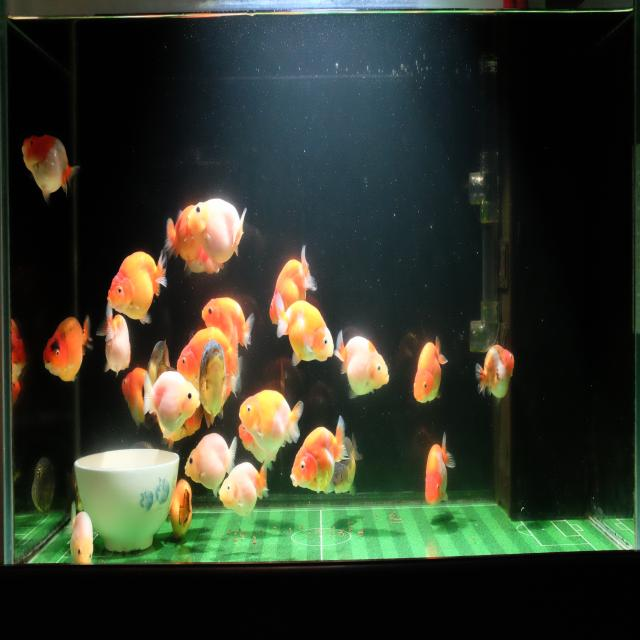Tilapia: (288, 413, 350, 497), (186, 193, 248, 274), (237, 387, 305, 460), (106, 248, 168, 328), (332, 324, 392, 404), (274, 291, 334, 368), (21, 132, 81, 209), (140, 368, 200, 441), (268, 242, 318, 327), (41, 313, 94, 385), (183, 428, 237, 498), (216, 460, 272, 520), (195, 338, 231, 427), (200, 295, 255, 353), (95, 299, 132, 383), (474, 342, 516, 408), (422, 430, 456, 510), (412, 333, 448, 407), (328, 428, 366, 498), (67, 498, 94, 568), (28, 455, 58, 518), (169, 473, 195, 544), (234, 423, 276, 466), (120, 365, 146, 433), (146, 333, 173, 385), (10, 316, 28, 376)
